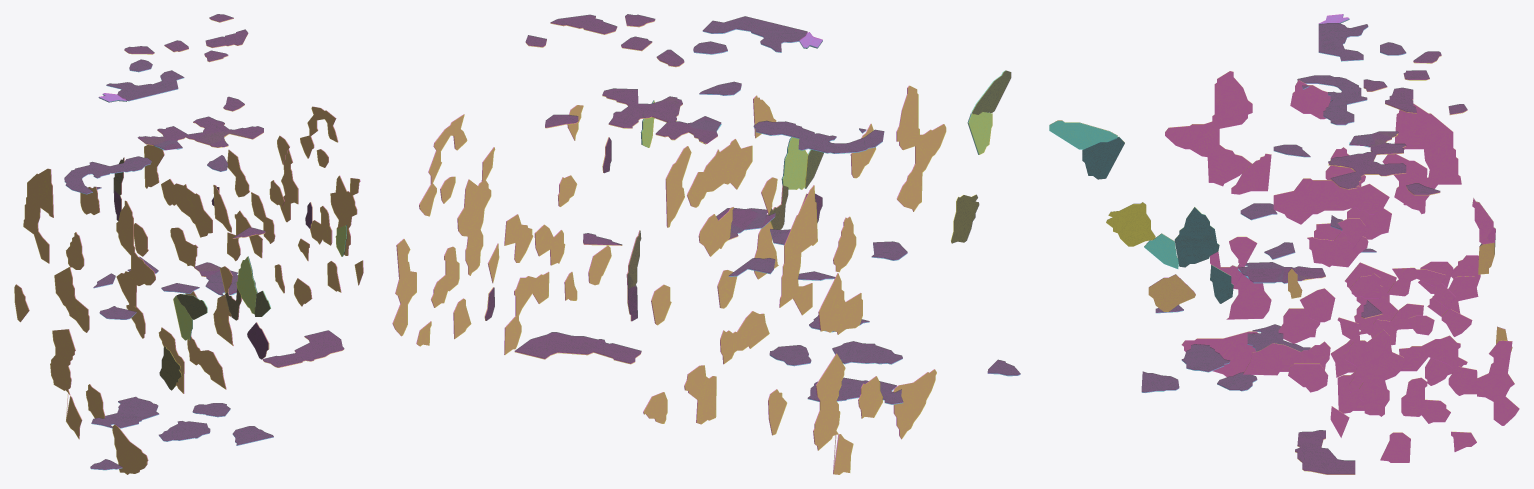
Rendered from shards.obj.
The picture shows the model from 3 angles, left to right: view 1: azimuth 30°, elevation 25°; view 2: azimuth 150°, elevation 25°; view 3: azimuth 270°, elevation 25°; orthographic projection. The views are drawn at different scales.
Parts seen in each view (by area): view 1: M, Y, K, C; view 2: M, Y, K, C; view 3: M, Y, K, C.
Boxes of the visible parts, x1,y1,x2,y2 form: M: [15, 14, 363, 474]; Y: [14, 18, 363, 474]; K: [64, 14, 347, 469]; C: [65, 65, 346, 470]; M: [392, 15, 1020, 474]; Y: [393, 17, 1010, 474]; K: [485, 14, 1020, 403]; C: [641, 29, 1020, 404]; M: [1142, 14, 1519, 474]; Y: [1049, 56, 1518, 474]; K: [1050, 19, 1500, 474]; C: [1049, 14, 1405, 392].
Size of the model in its own units: 977 by 918 by 1031.
